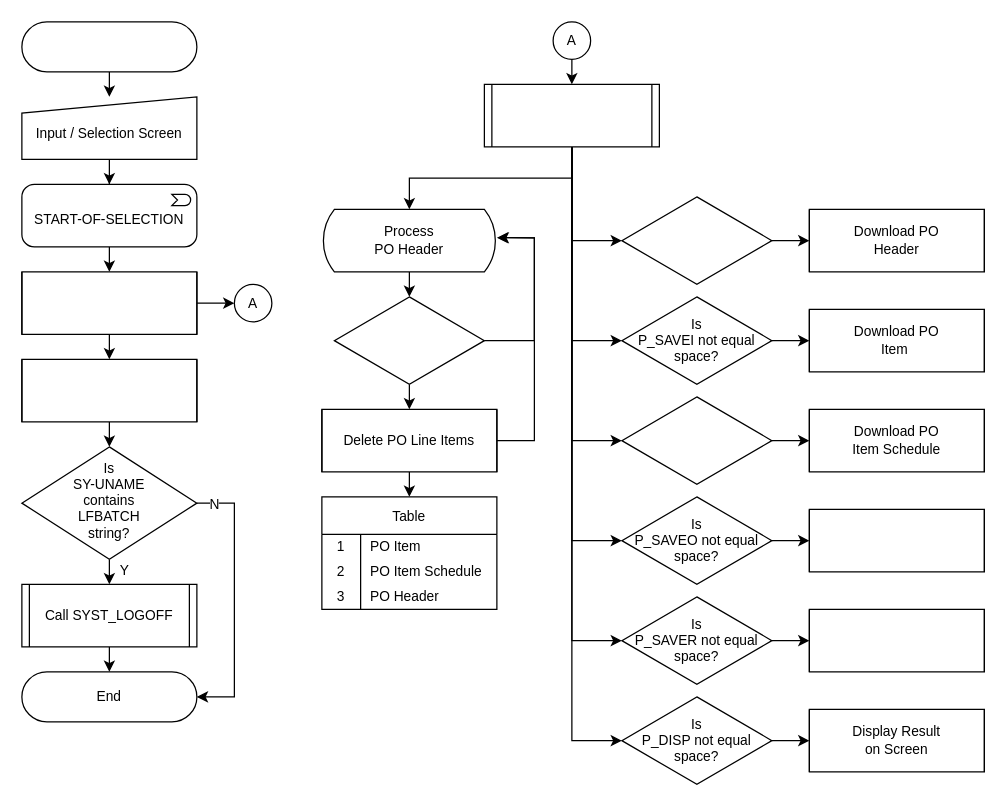
The diagram is 1006 pixels wide and 806 high, and some of its shapes have lost their labels. The centre of each missing label's shape, as x and y in pixels:
"Call FM ZATS_PO_GETLIST" belongs at pixel 571 115.
"Download PO Item Overall View" belongs at pixel 896 540.
"Download routing for PO Item" belongs at pixel 896 640.
"Is P_SAVEH not equal space?" belongs at pixel 696 240.
"Is P_SAVES not equal space?" belongs at pixel 696 440.
"Is VENDOR initial?" belongs at pixel 408 340.
"Retrieve PO Details" belongs at pixel 109 302.
"Set File Properties (DBF or DAT)" belongs at pixel 109 390.
"Start" belongs at pixel 109 46.
